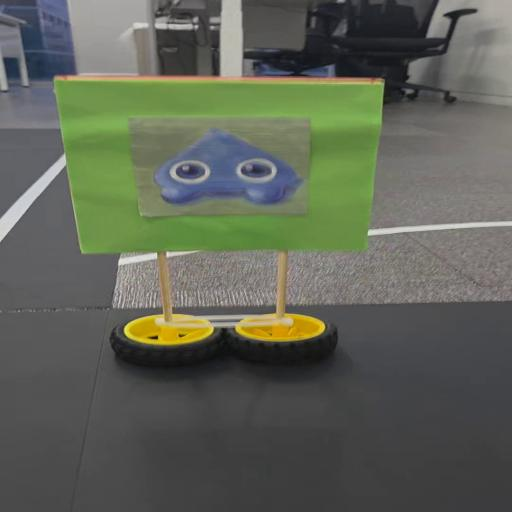Sign_B: (41, 67, 394, 375)
